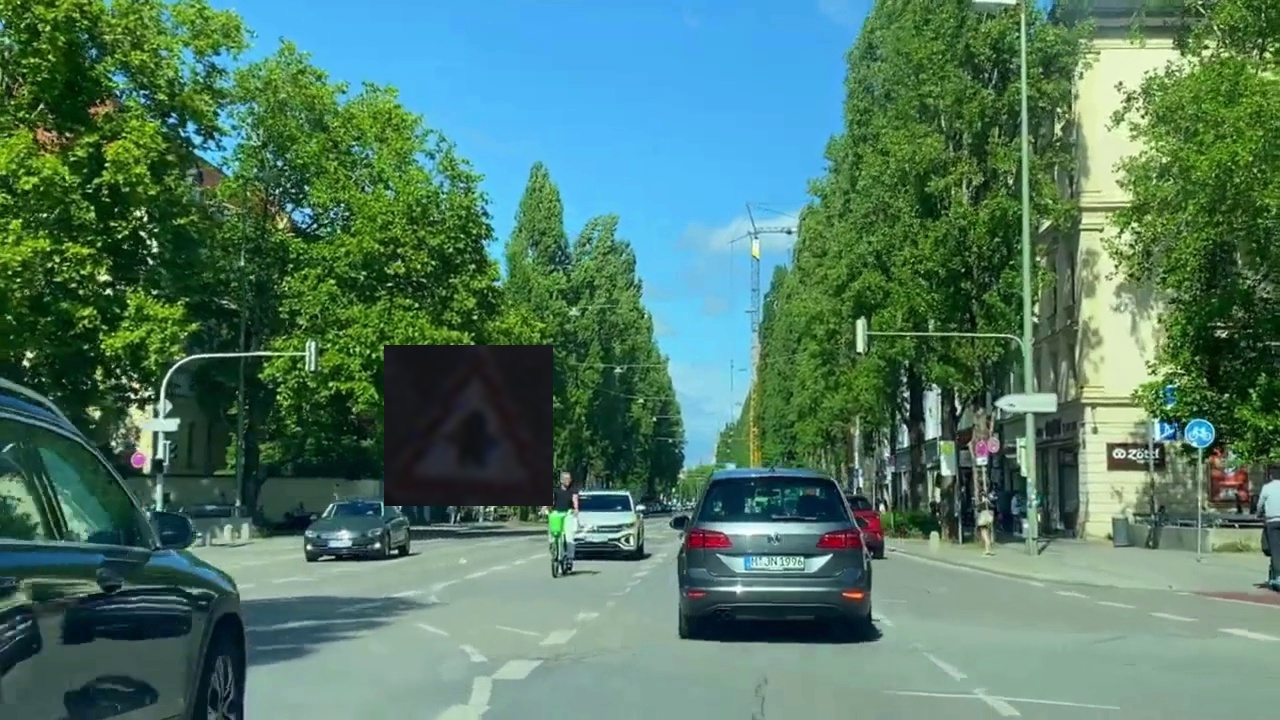Right-of-way: (384, 345, 553, 506)
